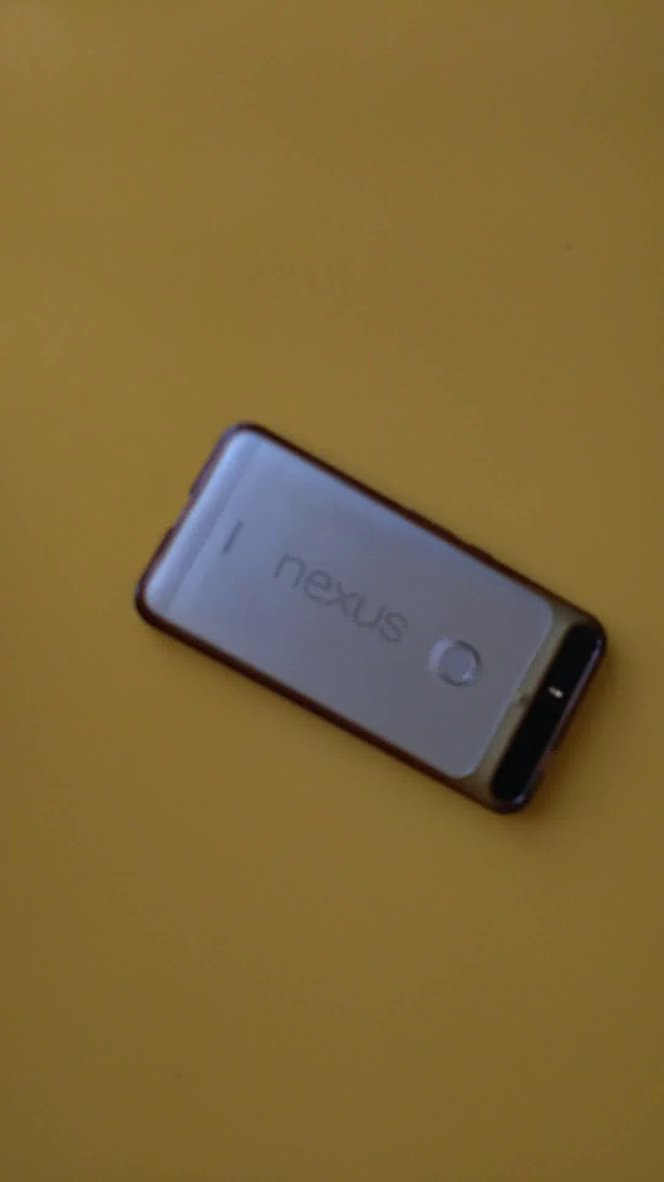phone: (127, 408, 629, 846)
